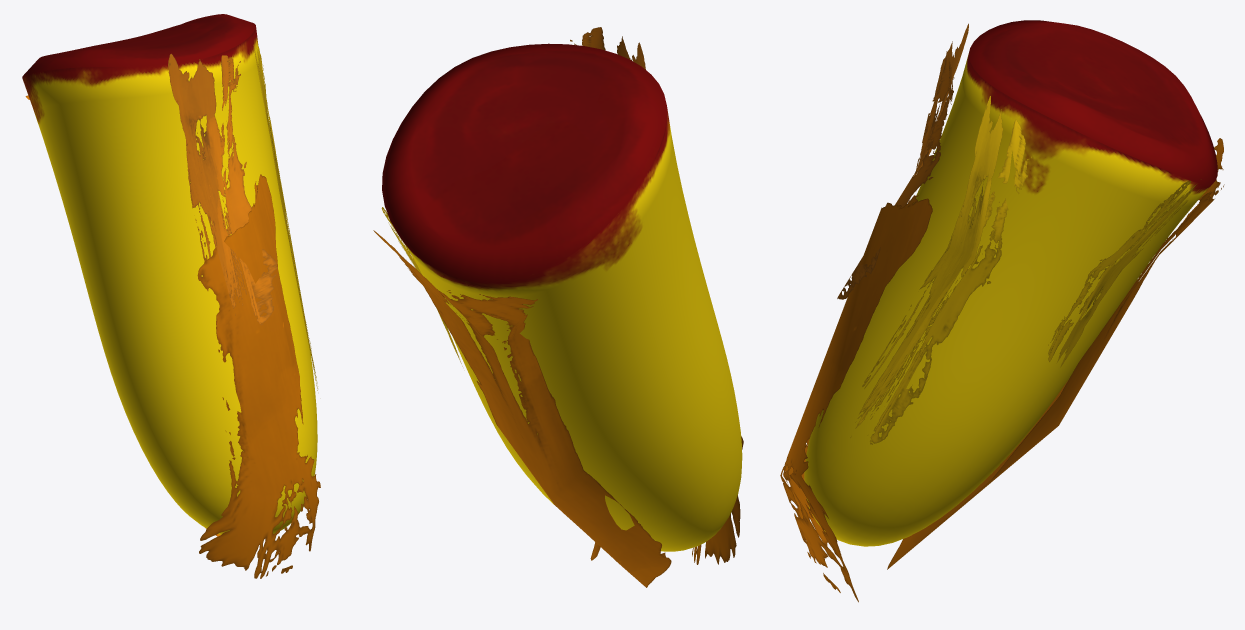
The model's file is Starfish Broken Leg Left.fbx.
3 renders of one model, left to right at view 1: azimuth 30°, elevation 25°; view 2: azimuth 150°, elevation 25°; view 3: azimuth 270°, elevation 25°, orthographic. The views are drawn at different scales.
Visible parts, largest first — view 1: Starfish_Brushstrokes_Legs.001; view 2: Starfish_Brushstrokes_Legs.001; view 3: Starfish_Brushstrokes_Legs.001.
Part boxes in pixels (<box>): Starfish_Brushstrokes_Legs.001: <box>22,14,320,578</box>; Starfish_Brushstrokes_Legs.001: <box>373,27,743,587</box>; Starfish_Brushstrokes_Legs.001: <box>780,20,1224,602</box>.
Size of the model in its own units: 80.19 by 205 by 144.
Materials: 2 (2 with a texture image).
